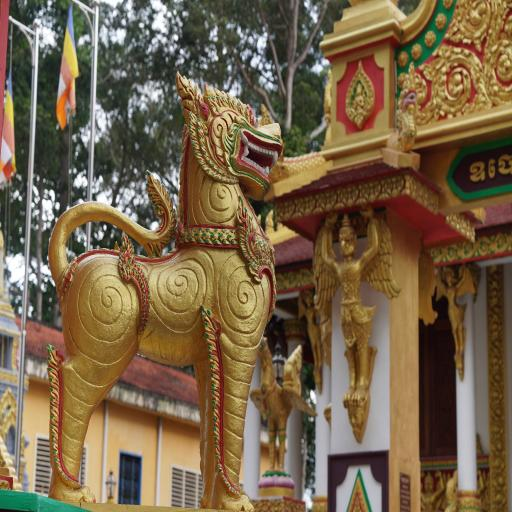than: (26, 49, 281, 512), (306, 195, 406, 461), (250, 322, 306, 482), (420, 241, 488, 358), (287, 274, 333, 394), (345, 66, 374, 122), (419, 457, 447, 512)
